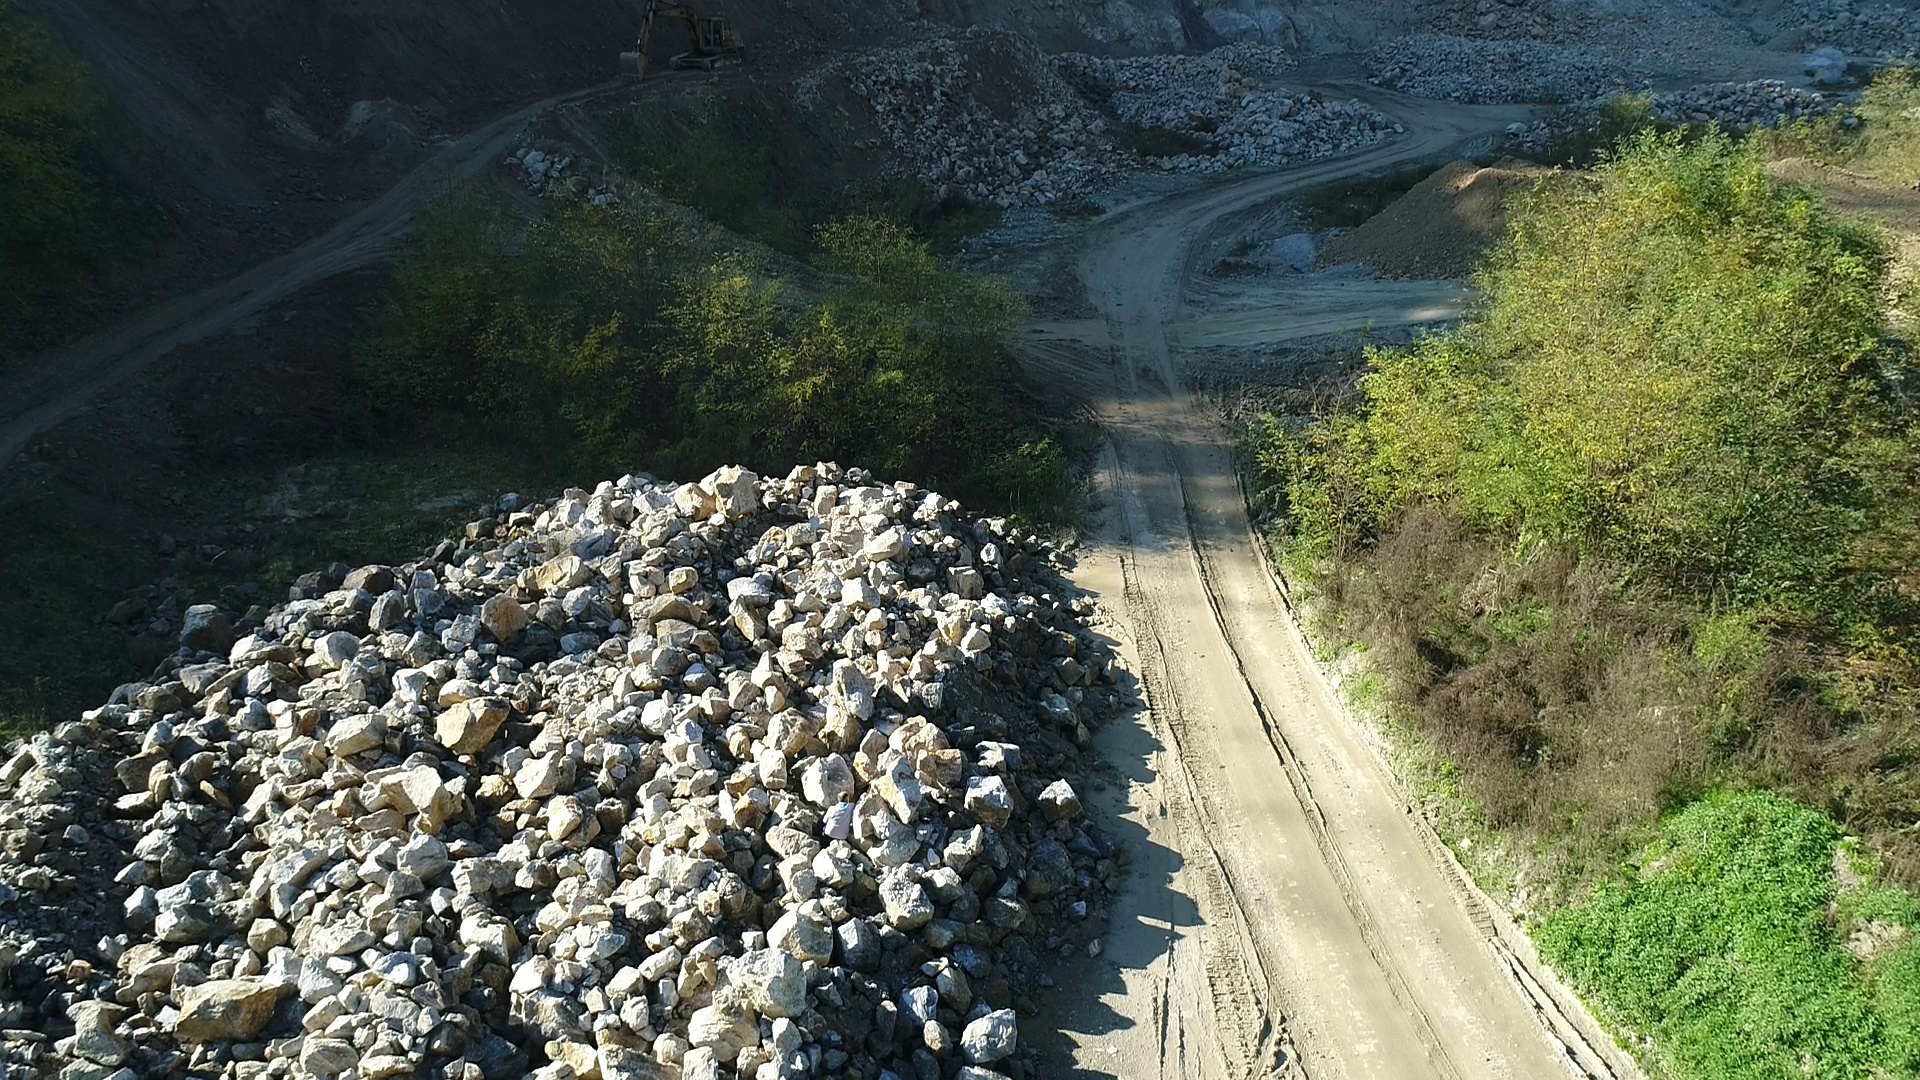person: (820, 789, 856, 848)
